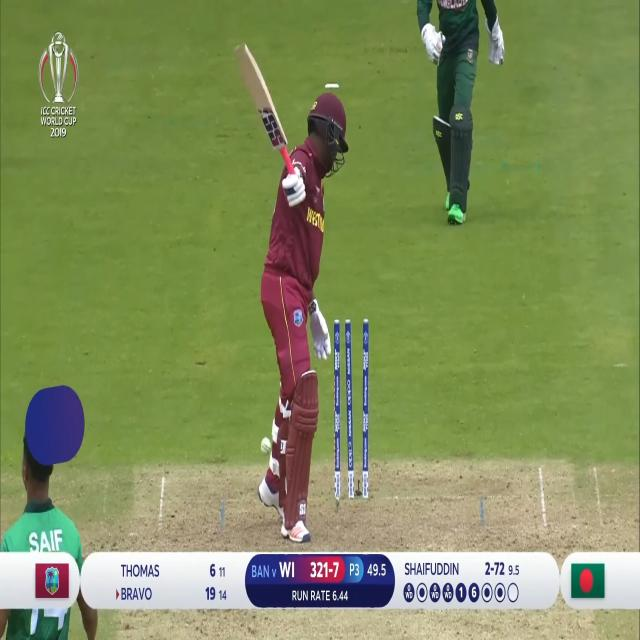ball: (257, 432, 272, 457)
